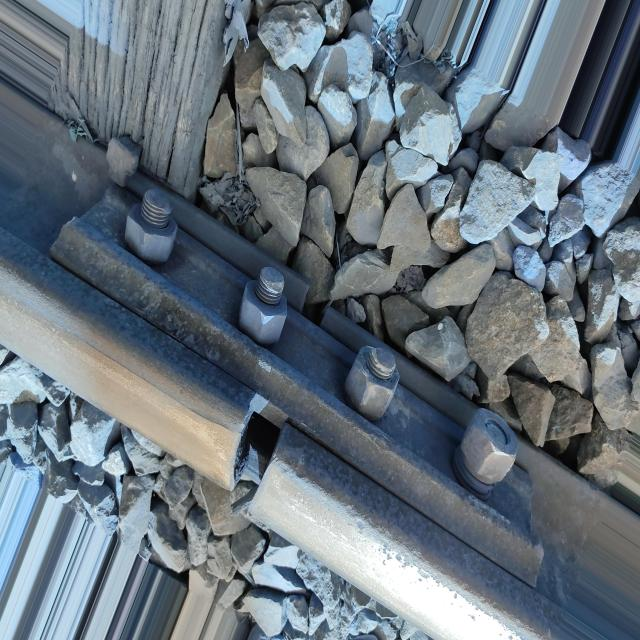crack: (217, 363, 300, 527)
